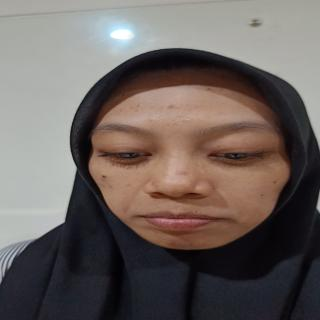Sedih: (71, 61, 297, 252)
